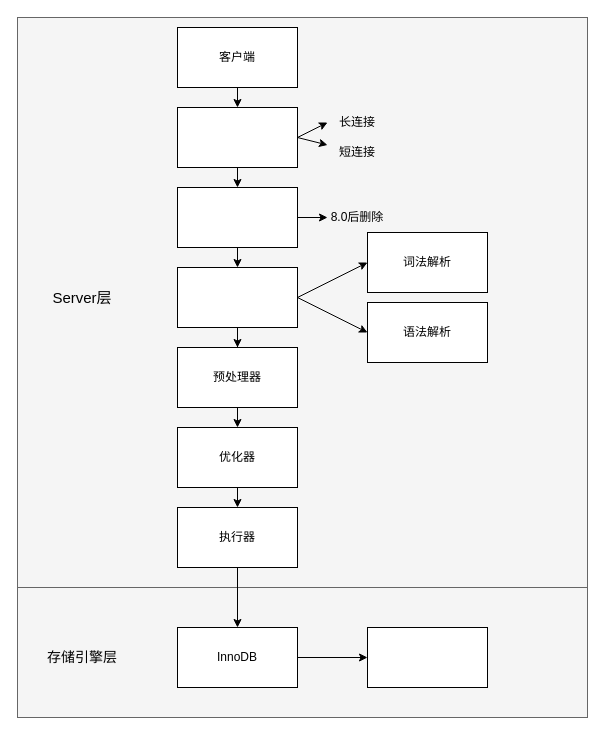
Some shapes in this 605 by 735 pixel diagram are drawn without their labels. The shapes that lost their labels are listed below. From the top down, each one's centre as x and y in pixels, then its label:
At point (237, 137): "连接器".
At point (237, 217): "查询缓存".
At point (237, 297): "解析器".
At point (427, 657): "数据".
